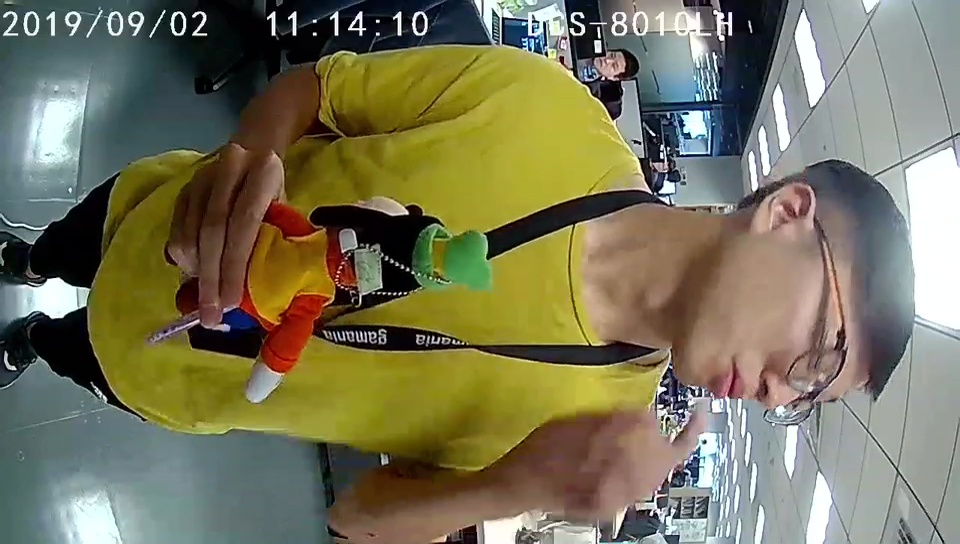goofy: (244, 209, 488, 405)
